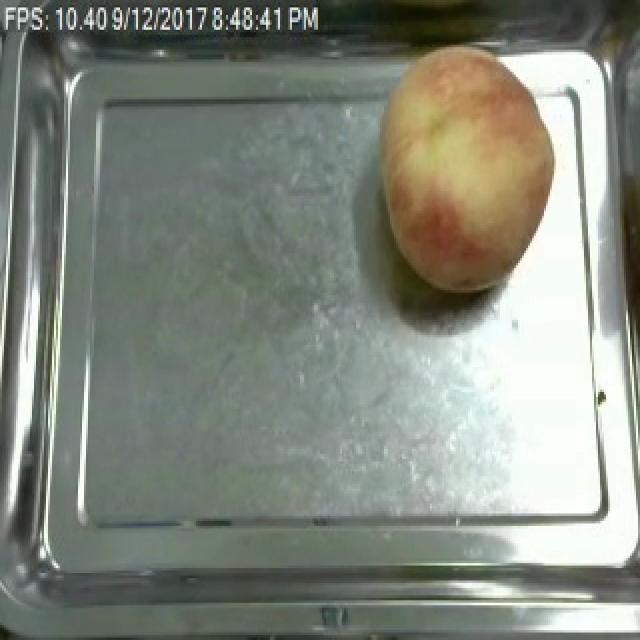Fruit: (364, 40, 566, 300)
